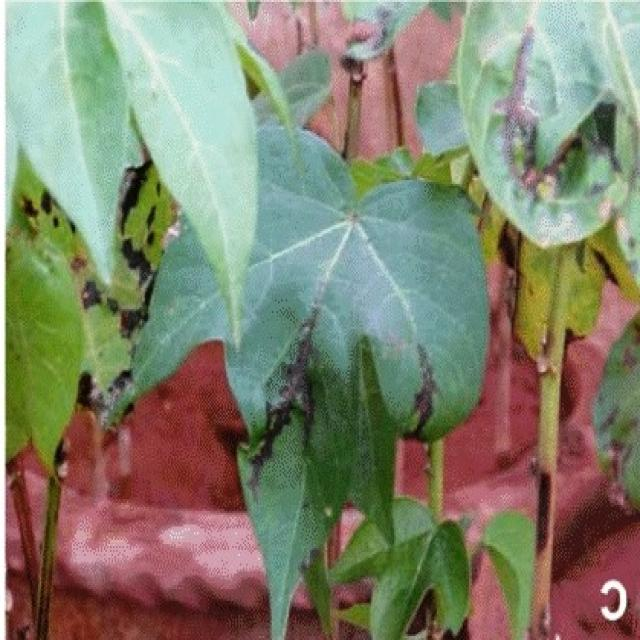Bacterial Blight: (92, 154, 376, 478)
